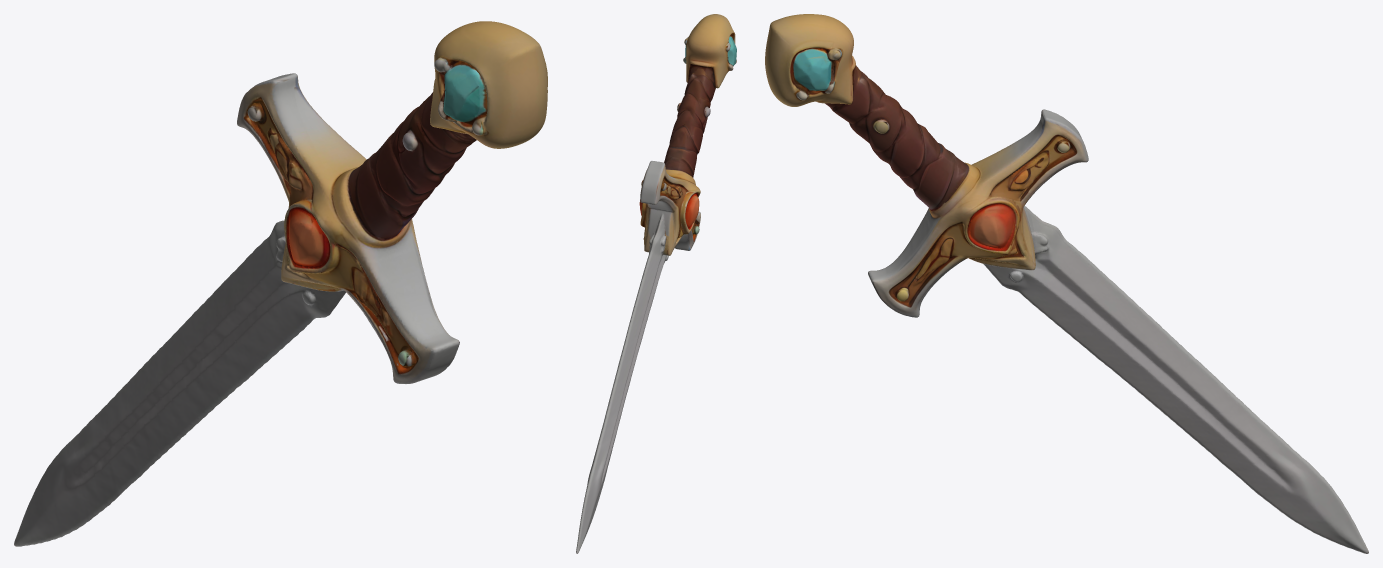
3 renders of one model, left to right at view 1: azimuth 30°, elevation 25°; view 2: azimuth 150°, elevation 25°; view 3: azimuth 270°, elevation 25°, orthographic. The views are drawn at different scales.
Parts seen in each view (by area): view 1: tripo_node_b126b3bc-68a4-4af1-9a45-5d6e2bb955cb; view 2: tripo_node_b126b3bc-68a4-4af1-9a45-5d6e2bb955cb; view 3: tripo_node_b126b3bc-68a4-4af1-9a45-5d6e2bb955cb.
Part boxes in pixels (left/top/right/bottom): tripo_node_b126b3bc-68a4-4af1-9a45-5d6e2bb955cb: left=14, top=21, right=547, bottom=546; tripo_node_b126b3bc-68a4-4af1-9a45-5d6e2bb955cb: left=576, top=14, right=736, bottom=553; tripo_node_b126b3bc-68a4-4af1-9a45-5d6e2bb955cb: left=765, top=14, right=1368, bottom=553.
Bounding box in the file's own units: 0.2081 × 1 × 0.9516.
1 material, 1 textured.
